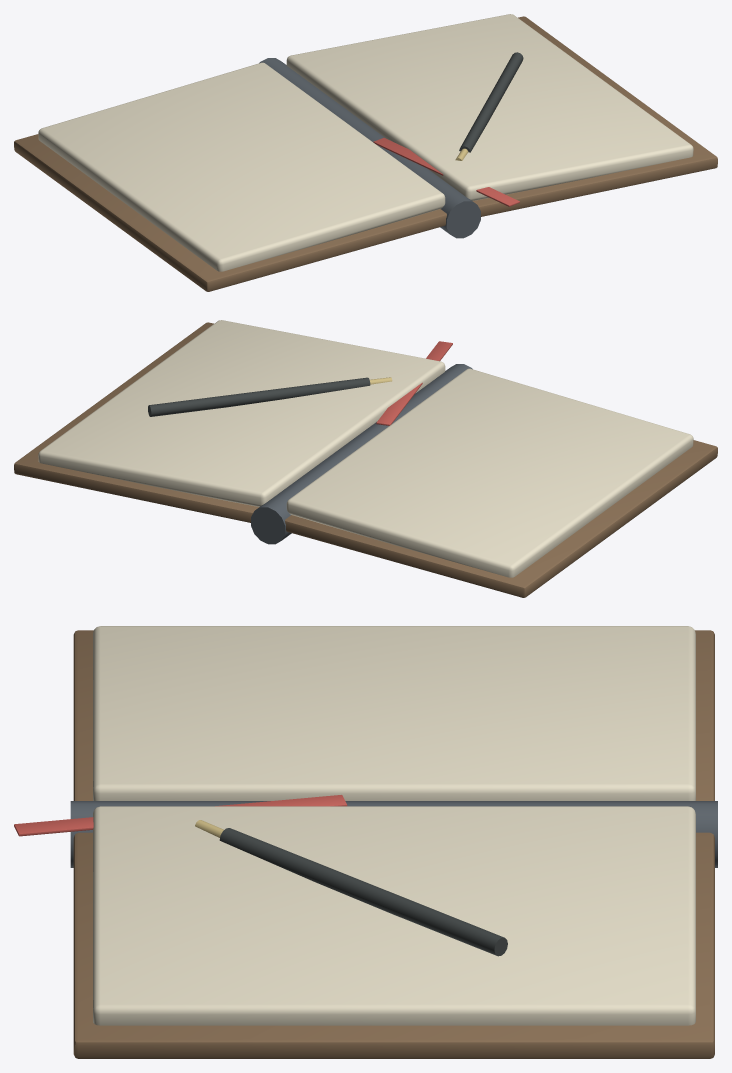
File: CTCC_PROP_PatientRegisterE03.fbx
3 renders of one model, top to bottom at view 1: azimuth 30°, elevation 25°; view 2: azimuth 150°, elevation 25°; view 3: azimuth 270°, elevation 25°, orthographic. The views are drawn at different scales.
Visible parts, largest first — view 1: CTCC_PROP_PatientRegisterE03; view 2: CTCC_PROP_PatientRegisterE03; view 3: CTCC_PROP_PatientRegisterE03.
Part boxes in pixels (left/top/right/bottom): CTCC_PROP_PatientRegisterE03: left=14, top=14, right=717, bottom=291; CTCC_PROP_PatientRegisterE03: left=14, top=320, right=717, bottom=597; CTCC_PROP_PatientRegisterE03: left=14, top=626, right=717, bottom=1058.
Size of the model in its own units: 0.6401 by 0.0545 by 0.4612.
